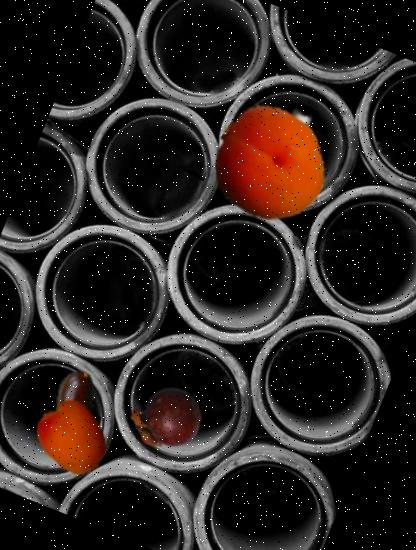Apricot: (195, 91, 344, 239), (23, 389, 122, 488)
Eggplant: (4, 352, 141, 489)
Mangostan: (121, 374, 212, 465)
